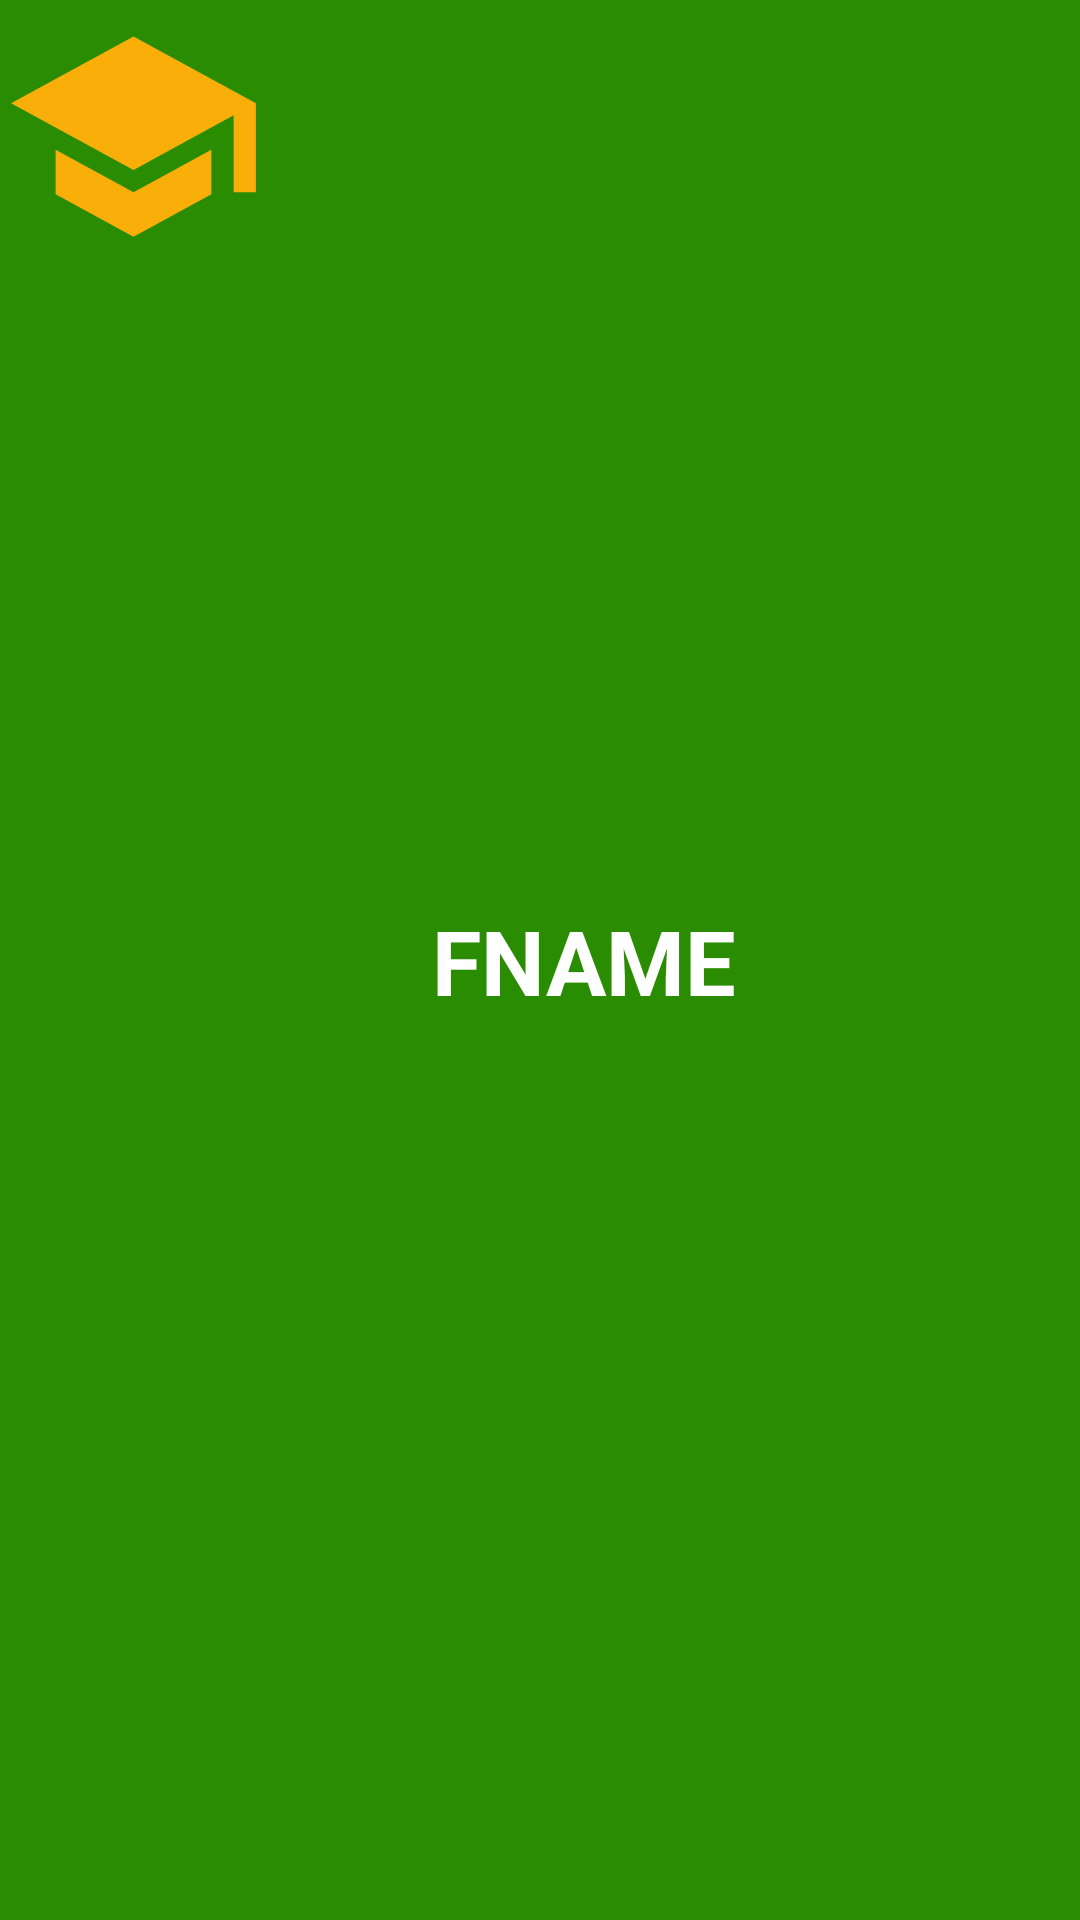

Named icons in this screenshot (1080 × 1920) and their bounding boxes, (x1, y1, x2, y2):
school: (11, 36, 256, 237)
